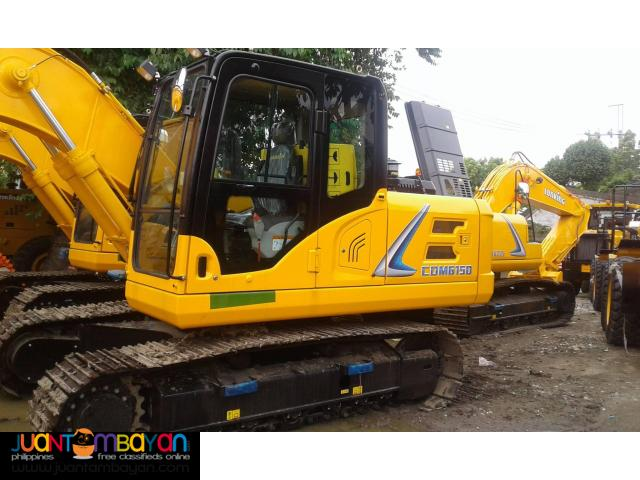backhoe: (1, 41, 491, 433)
